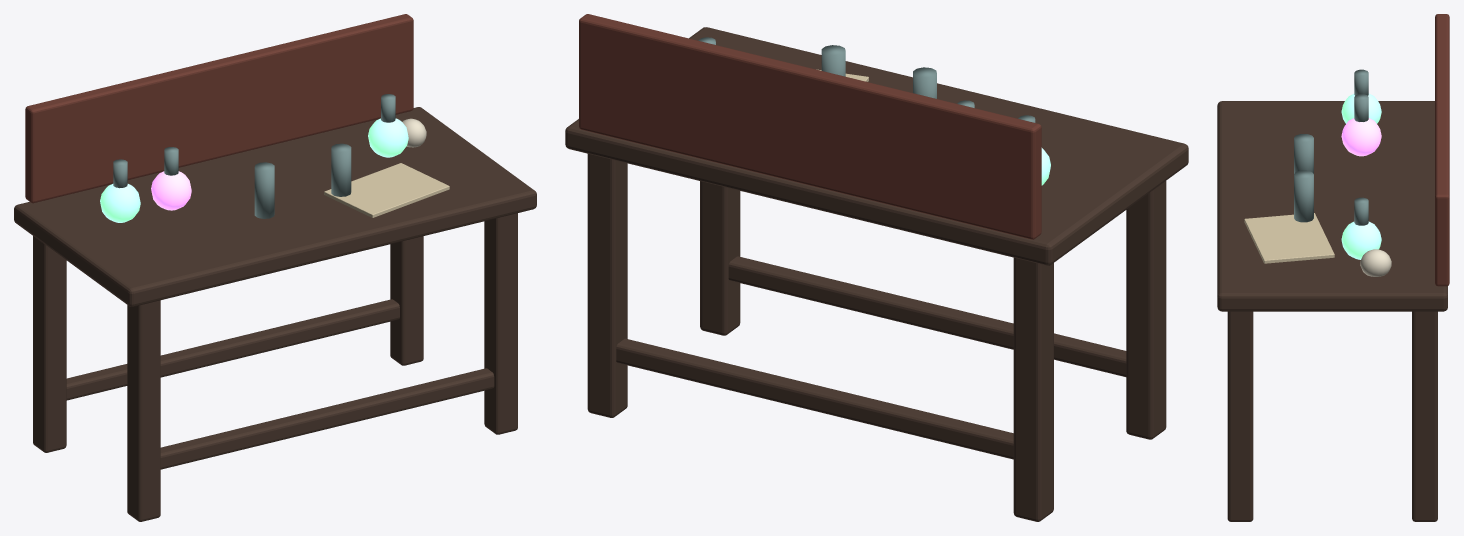
Rendered from alchemy_table.glb.
3 renders of one model, left to right at view 1: azimuth 30°, elevation 25°; view 2: azimuth 150°, elevation 25°; view 3: azimuth 270°, elevation 25°, orthographic. The views are drawn at different scales.
Visible parts, largest first — view 1: GD_alchemy_table; view 2: GD_alchemy_table; view 3: GD_alchemy_table.
Part boxes in pixels (x1,y1,x2,y2): GD_alchemy_table: [14, 14, 536, 521]; GD_alchemy_table: [565, 14, 1188, 521]; GD_alchemy_table: [1217, 14, 1449, 521].
Size of the model in its own units: 1.6 by 1.26 by 0.805.
